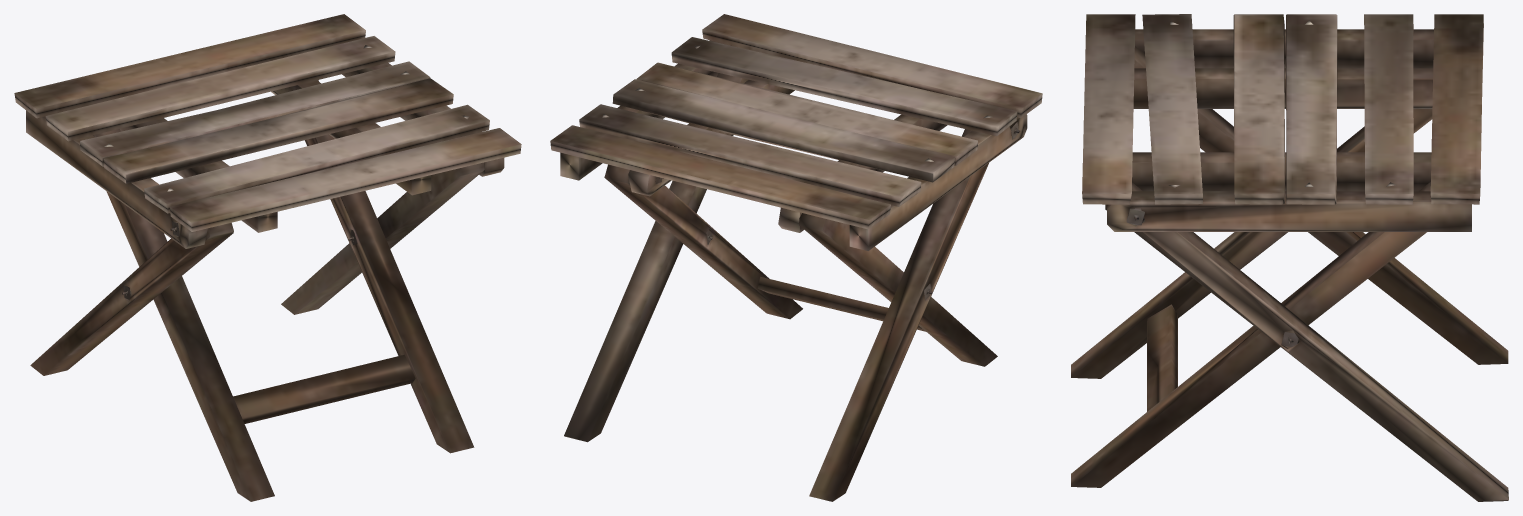
File: folding_wooden_stool.glb
3 views of the same model, side by side, from view 1: azimuth 30°, elevation 25°; view 2: azimuth 150°, elevation 25°; view 3: azimuth 270°, elevation 25° (orthographic). The views are drawn at different scales.
Visible parts, largest first — view 1: folding_wooden_stool; view 2: folding_wooden_stool; view 3: folding_wooden_stool.
Boxes of the visible parts, bbox=[...] form: folding_wooden_stool: bbox=[14, 14, 521, 501]; folding_wooden_stool: bbox=[550, 14, 1042, 501]; folding_wooden_stool: bbox=[1071, 14, 1508, 501].
Bounding box in the file's own units: 0.5264 × 0.4401 × 0.5408.
Materials: 1 (1 with a texture image).
